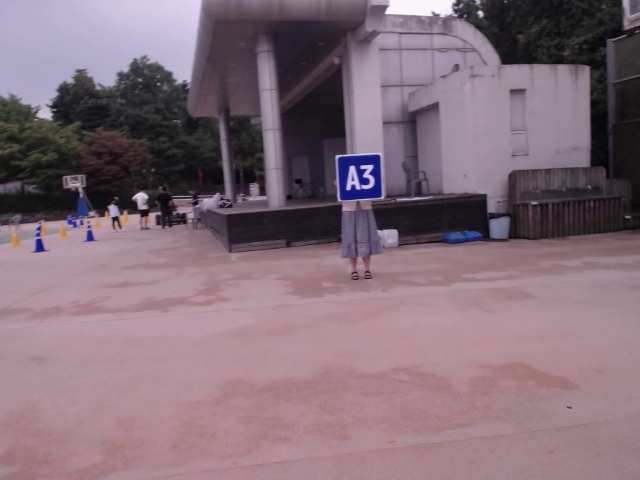delivery_a3: (336, 154, 384, 201)
